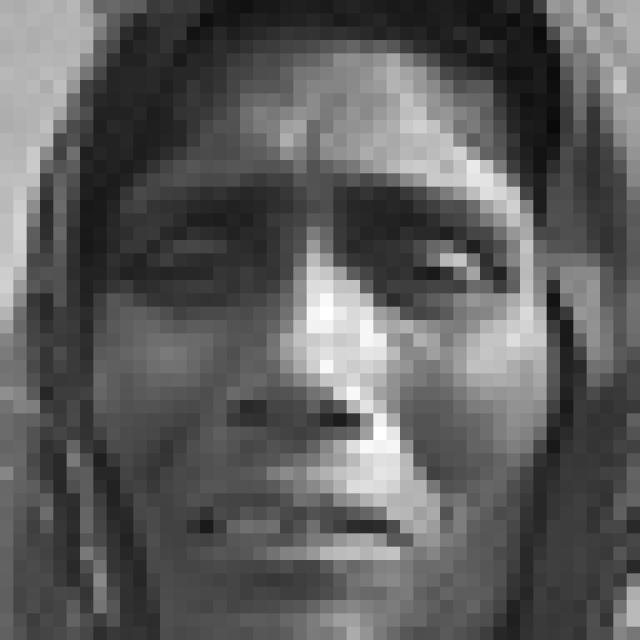sad: (103, 114, 530, 585)
